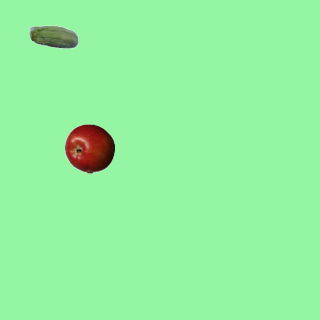Apple Braeburn: (64, 123, 114, 173)
Corn Husk: (28, 13, 78, 63)
